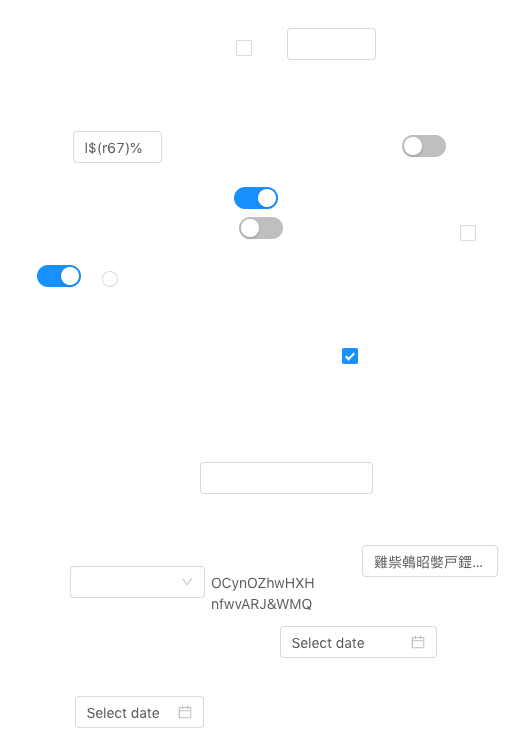Checkbox: (236, 37, 252, 58), (342, 345, 358, 366), (460, 222, 476, 243)
DatePicker: (280, 626, 437, 658), (75, 696, 204, 728)
Input: (200, 462, 373, 494), (362, 545, 498, 577), (287, 28, 376, 60), (73, 131, 162, 163)
Radio: (102, 268, 118, 288)
Select: (70, 566, 205, 598)
Switch: (402, 134, 446, 158), (37, 264, 81, 288), (234, 186, 278, 210), (239, 216, 283, 240)
Text: (211, 572, 317, 614)
